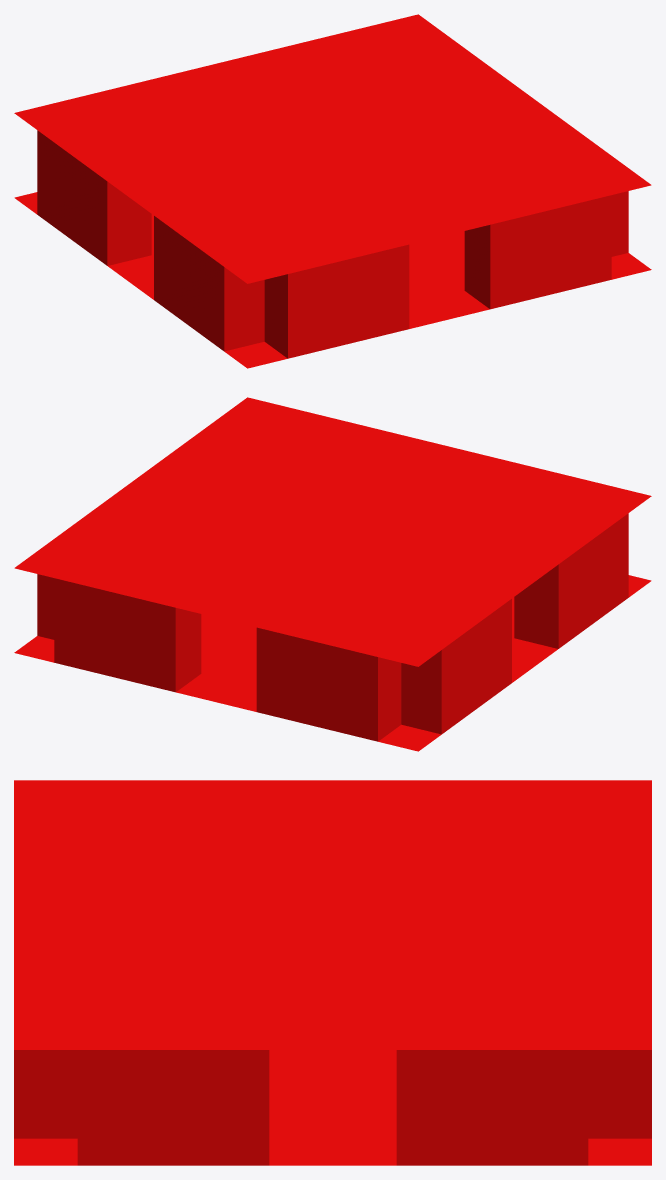
File: cave_room_a.dae
3 views of the same model, one above another, from view 1: azimuth 30°, elevation 25°; view 2: azimuth 150°, elevation 25°; view 3: azimuth 270°, elevation 25° (orthographic). The views are drawn at different scales.
Parts seen in each view (by area): view 1: Plane.001, Cube.006, Cube.007, Cube.002, Cube.003, Plane, Cube.004, Cube.005, Cube.001, Cube; view 2: Plane.001, Cube.004, Cube.005, Cube.002, Cube.003, Plane, Cube.006, Cube.007, Cube, Cube.001; view 3: Plane.001, Cube.001, Cube, Plane, Cube.005, Cube.007, Cube.006, Cube.003, Cube.004, Cube.002.
Part boxes in pixels (left/top/right/bottom): Plane.001: left=14, top=14, right=651, bottom=283; Cube.006: left=263, top=226, right=409, bottom=358; Cube.007: left=464, top=188, right=611, bottom=309; Cube.002: left=154, top=205, right=266, bottom=351; Cube.003: left=37, top=120, right=151, bottom=265; Plane: left=14, top=192, right=651, bottom=368; Cube.004: left=54, top=73, right=200, bottom=121; Cube.005: left=257, top=24, right=402, bottom=72; Cube.001: left=398, top=31, right=511, bottom=93; Cube: left=515, top=117, right=628, bottom=256; Plane.001: left=14, top=397, right=651, bottom=666; Cube.004: left=256, top=609, right=402, bottom=741; Cube.005: left=54, top=561, right=201, bottom=692; Cube.002: left=514, top=503, right=628, bottom=648; Cube.003: left=399, top=588, right=511, bottom=734; Plane: left=14, top=575, right=651, bottom=751; Cube.006: left=465, top=456, right=611, bottom=504; Cube.007: left=263, top=407, right=408, bottom=455; Cube: left=155, top=414, right=267, bottom=476; Cube.001: left=37, top=502, right=150, bottom=639; Plane.001: left=14, top=780, right=651, bottom=1049; Cube.001: left=396, top=1020, right=588, bottom=1165; Cube: left=77, top=1020, right=269, bottom=1165; Plane: left=14, top=1050, right=651, bottom=1165; Cube.005: left=582, top=942, right=651, bottom=1138; Cube.007: left=14, top=942, right=83, bottom=1138; Cube.006: left=14, top=807, right=83, bottom=888; Cube.003: left=396, top=780, right=588, bottom=809; Cube.004: left=582, top=807, right=651, bottom=888; Cube.002: left=77, top=780, right=269, bottom=809.
Bounding box in the file's own units: 1280 × 1280 × 256.
